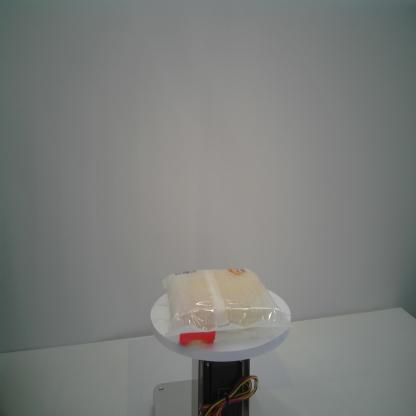Dessert: (161, 268, 294, 349)
